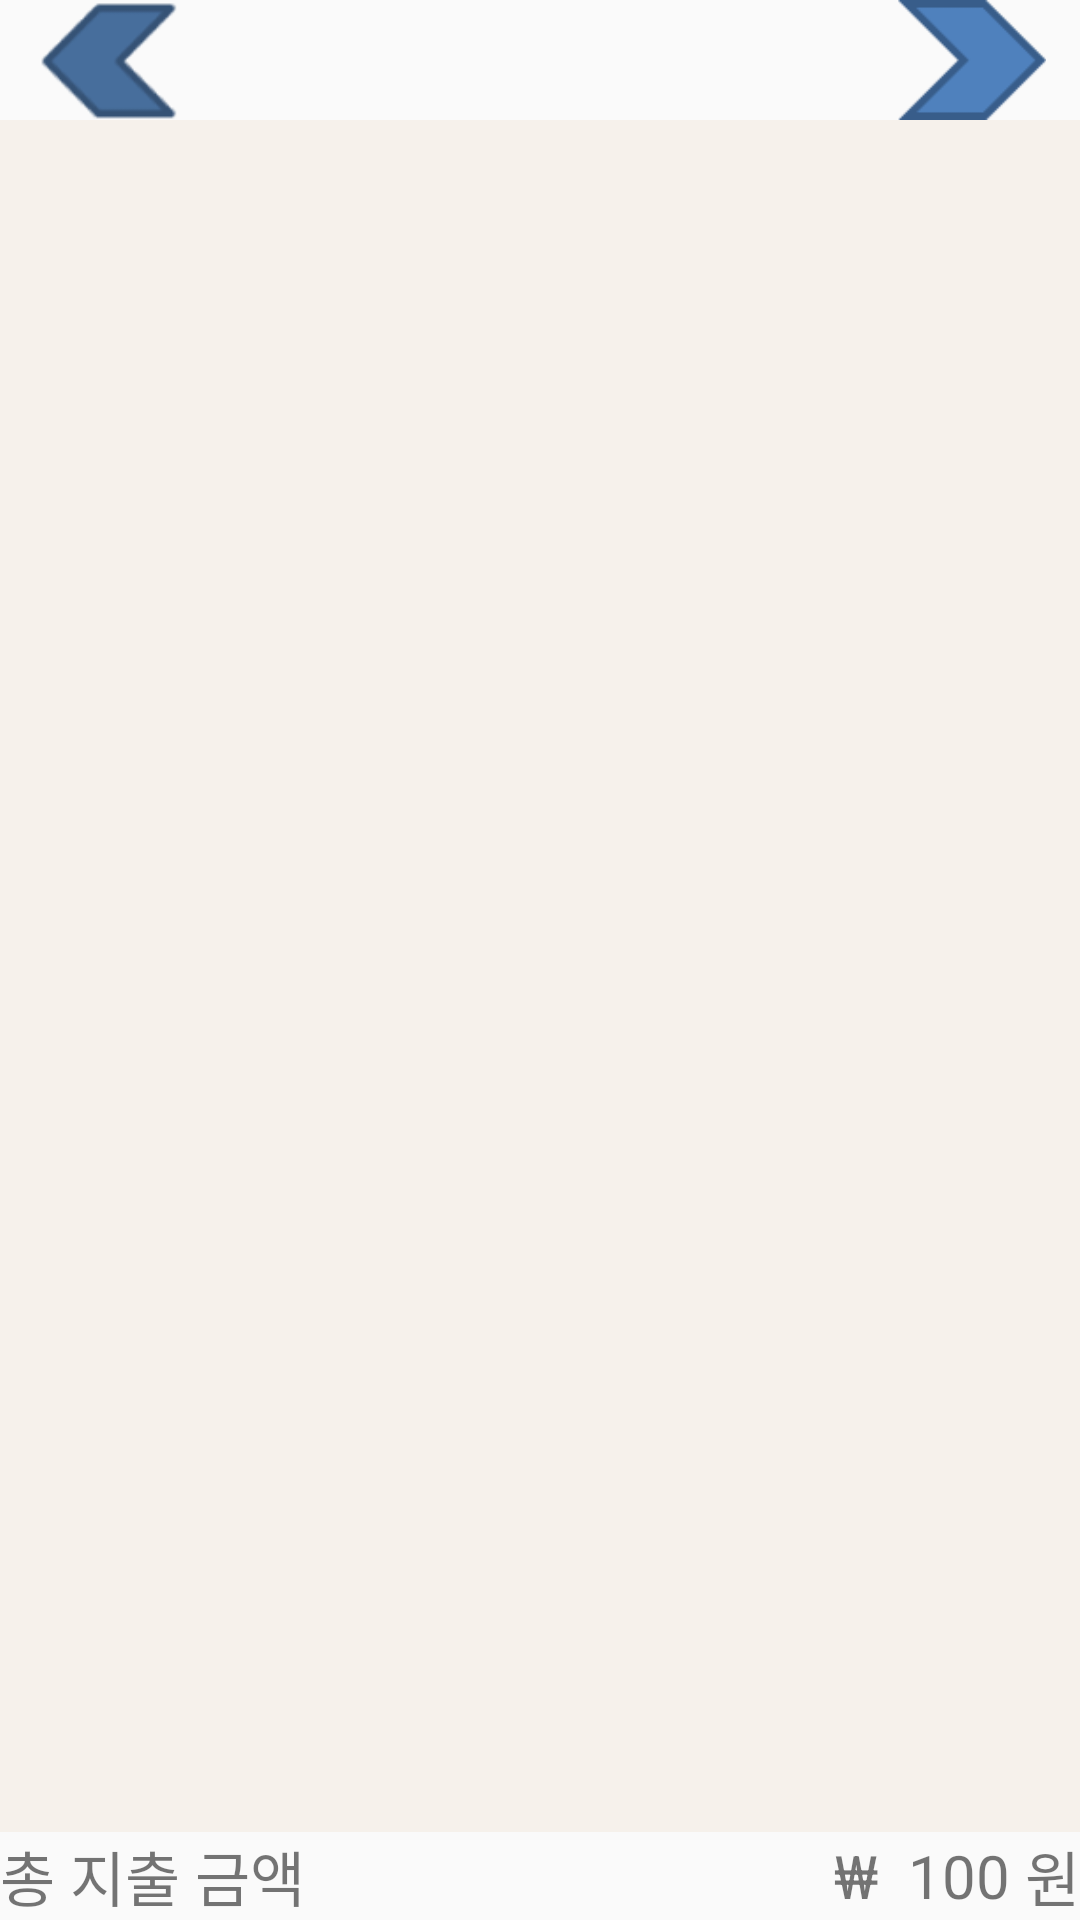

Point at icon controls on the screen. Image size 1080*1920, points as (x=x, y=y).
left: (x=108, y=61)
right: (x=972, y=60)
